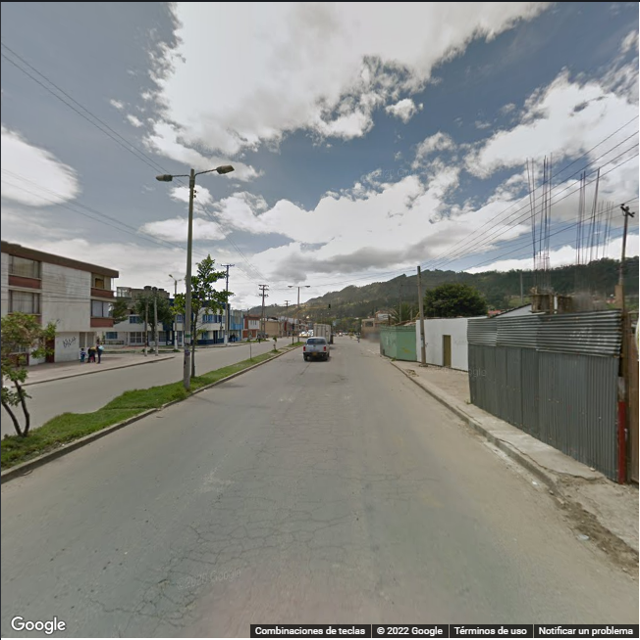D10: (89, 597, 136, 617)
D20: (150, 483, 353, 622)
